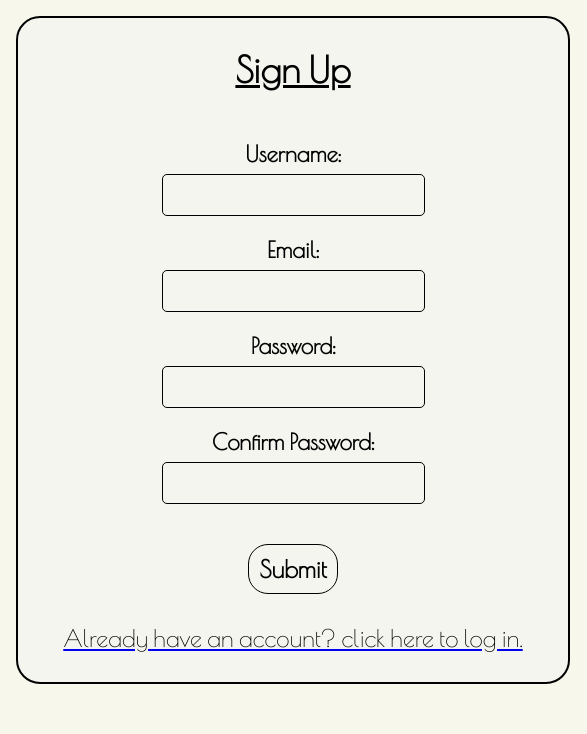
Test: Sign Up › success › success message appears when successful registration
Type "username" into the field labelled "Username:". click: (293, 195)
box: [162,174,424,216]
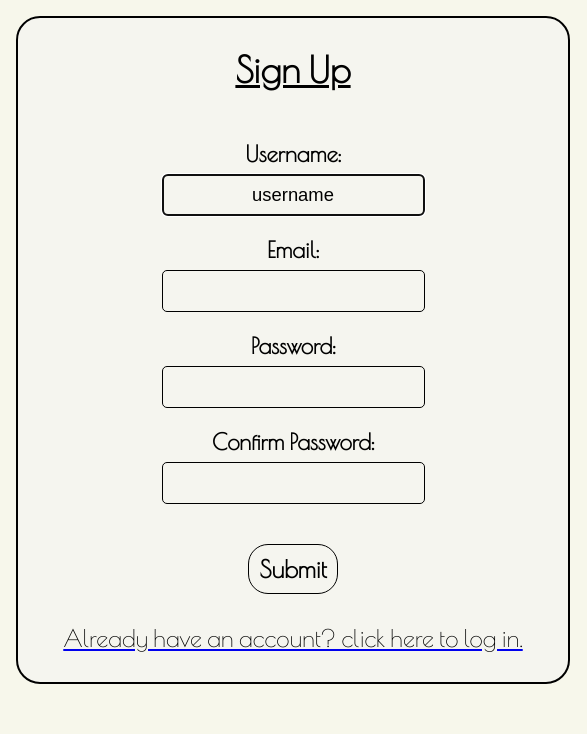
Type "email@gmail.com" into the field labelled "Email:". click: (293, 291)
box: [162,270,424,312]
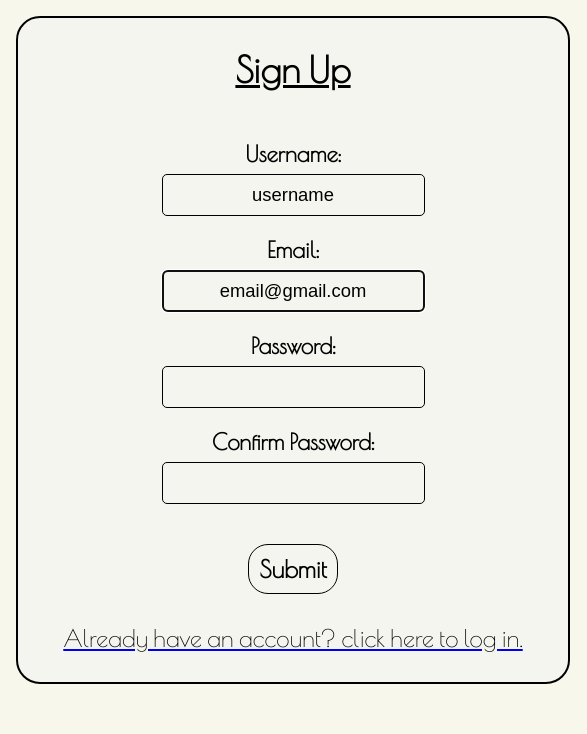
Type "password1" into the password field labelled "Password:". click: (293, 387)
box: [162,366,424,408]
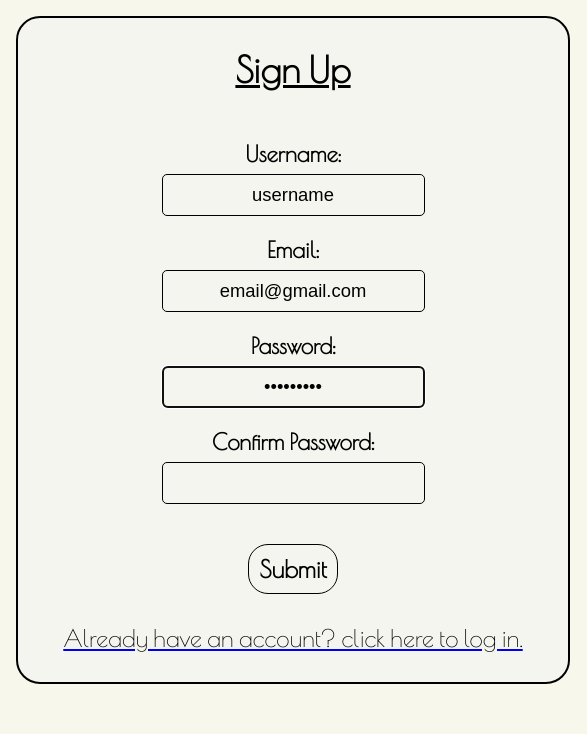
Type "password1" into the password field labelled "Confirm Password:". click: (293, 483)
box: [162,462,424,504]
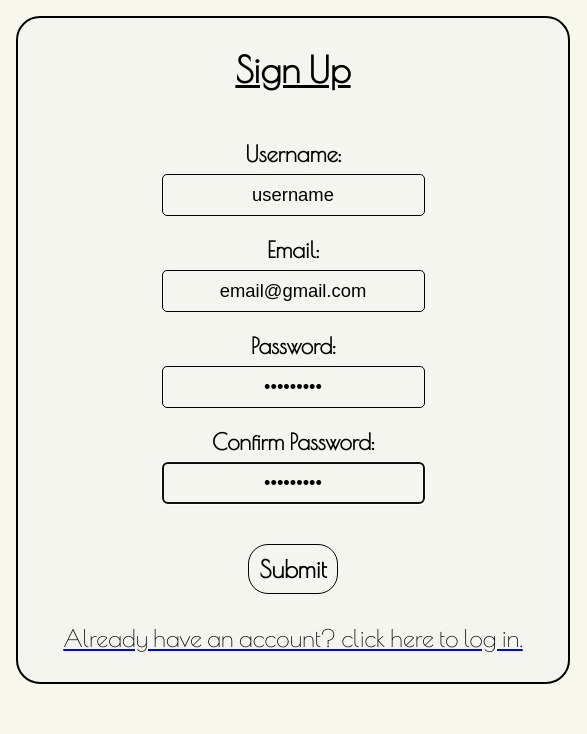
Click the button "Submit". click: (293, 569)
box: [248,544,338,594]
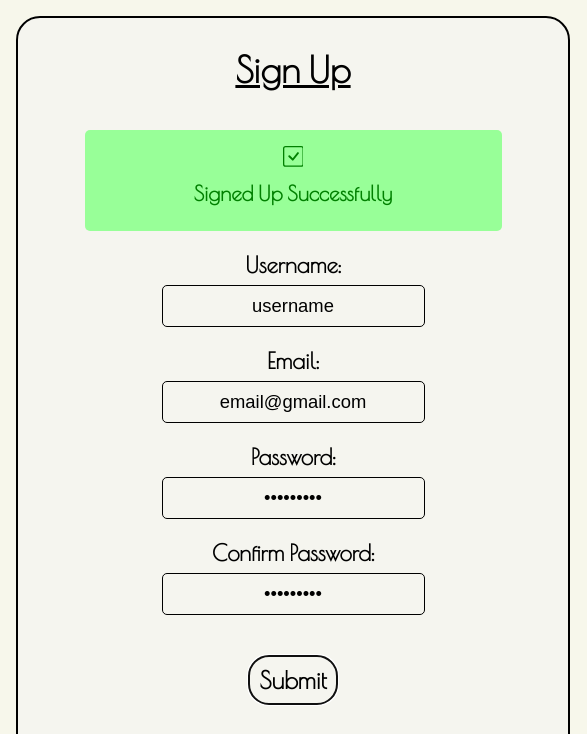
Expected: the text "Signed Up Successfully" is shown, [194,181,392,205]
